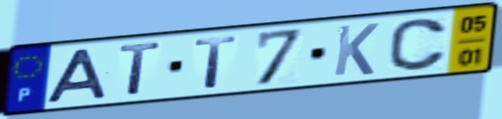7: (253, 26, 307, 89)
A: (43, 46, 111, 106)
C: (386, 17, 450, 74)
K: (331, 21, 382, 78)
T: (192, 34, 240, 91), (117, 40, 164, 98)
